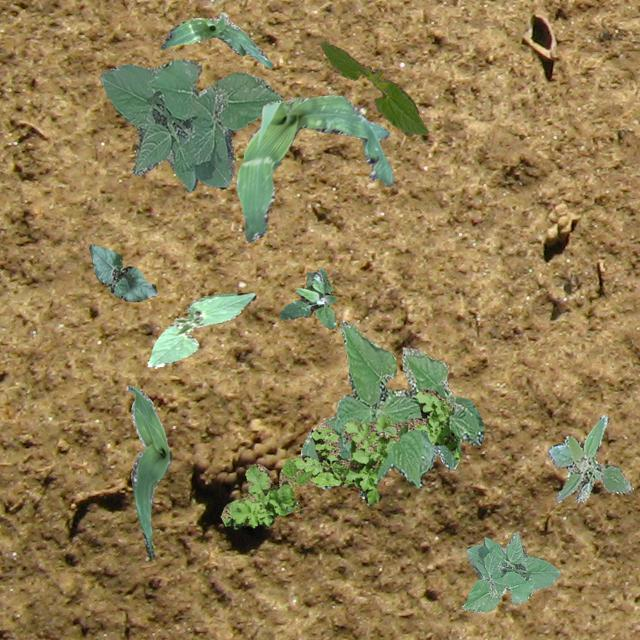crop: (300, 320, 483, 498), (99, 58, 281, 192), (235, 94, 394, 242), (320, 40, 428, 136), (460, 530, 560, 612), (146, 292, 255, 366), (126, 384, 170, 556), (160, 12, 272, 66), (88, 243, 156, 300)
weed: (220, 388, 460, 528), (546, 414, 632, 502), (278, 266, 336, 328)
